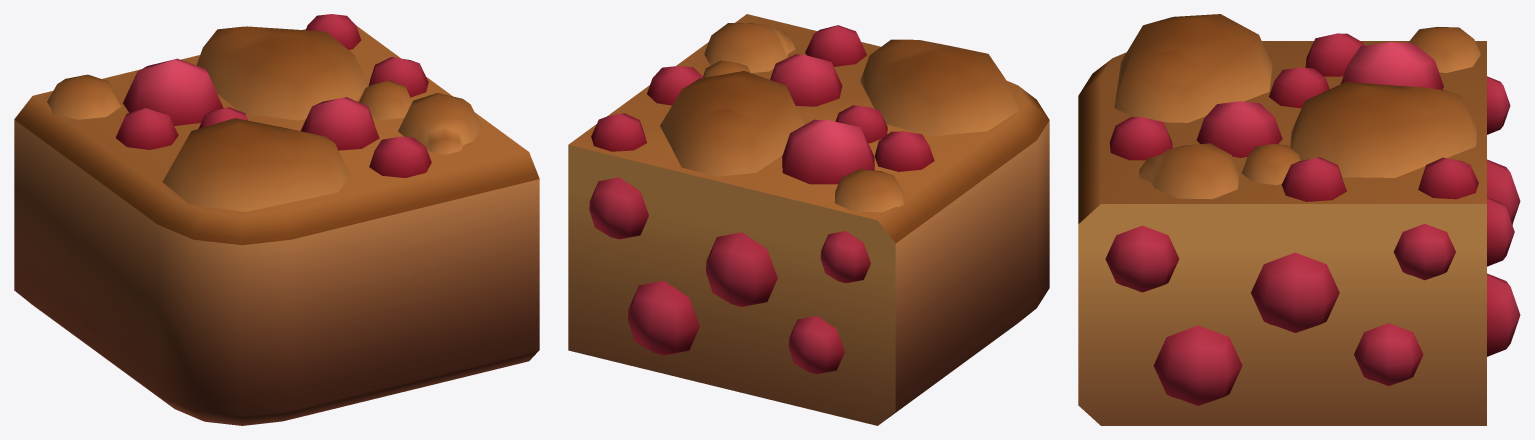
File: m_SheetCake04_Slice01.fbx
The picture shows the model from 3 angles, left to right: view 1: azimuth 30°, elevation 25°; view 2: azimuth 150°, elevation 25°; view 3: azimuth 270°, elevation 25°; orthographic projection. The views are drawn at different scales.
Parts seen in each view (by area): view 1: m_SheetCake04_Slice01; view 2: m_SheetCake04_Slice01; view 3: m_SheetCake04_Slice01.
Part boxes in pixels (bbox=[...]): m_SheetCake04_Slice01: bbox=[14, 14, 539, 425]; m_SheetCake04_Slice01: bbox=[568, 14, 1049, 425]; m_SheetCake04_Slice01: bbox=[1078, 14, 1520, 425].
Size of the model in its own units: 10.82 by 7.57 by 10.82.
